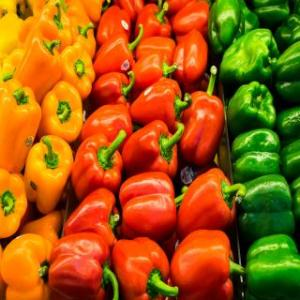bell_pepper: (180, 165, 244, 249), (50, 222, 116, 300), (112, 224, 176, 300), (120, 169, 182, 244), (177, 228, 241, 300), (182, 65, 226, 167), (124, 118, 184, 186), (240, 169, 296, 239), (215, 28, 280, 84), (246, 234, 300, 300), (25, 134, 69, 210), (74, 126, 122, 195), (130, 77, 192, 129), (66, 186, 120, 242), (230, 78, 280, 134), (17, 36, 60, 96), (82, 103, 134, 149), (231, 130, 283, 176), (92, 23, 136, 75), (44, 80, 82, 140), (92, 68, 132, 112)
